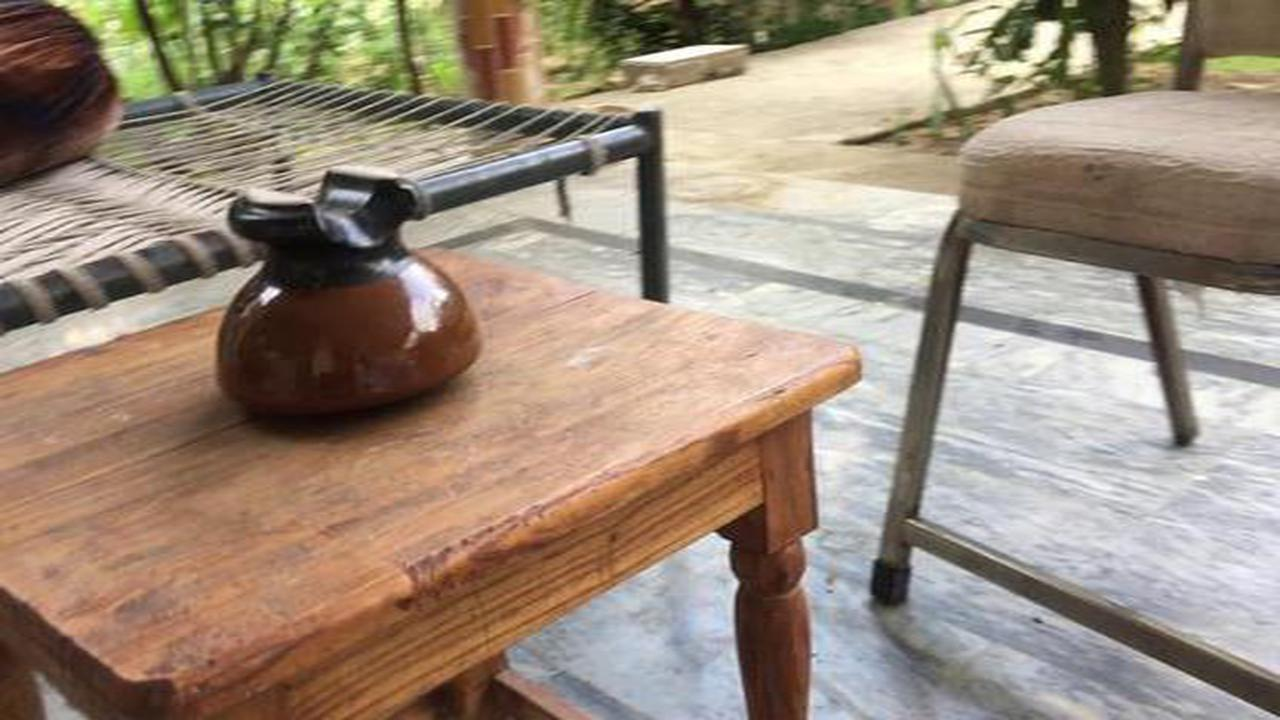insulator_pin: (182, 156, 496, 435)
